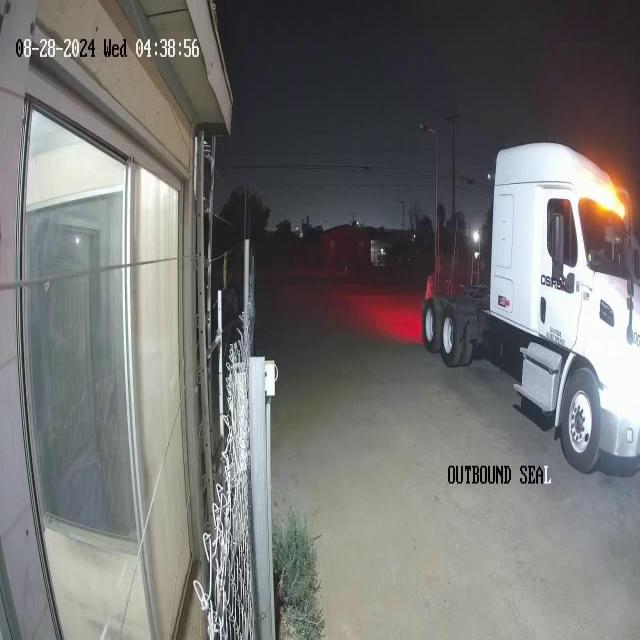TRUCK_IN: (421, 140, 639, 474)
